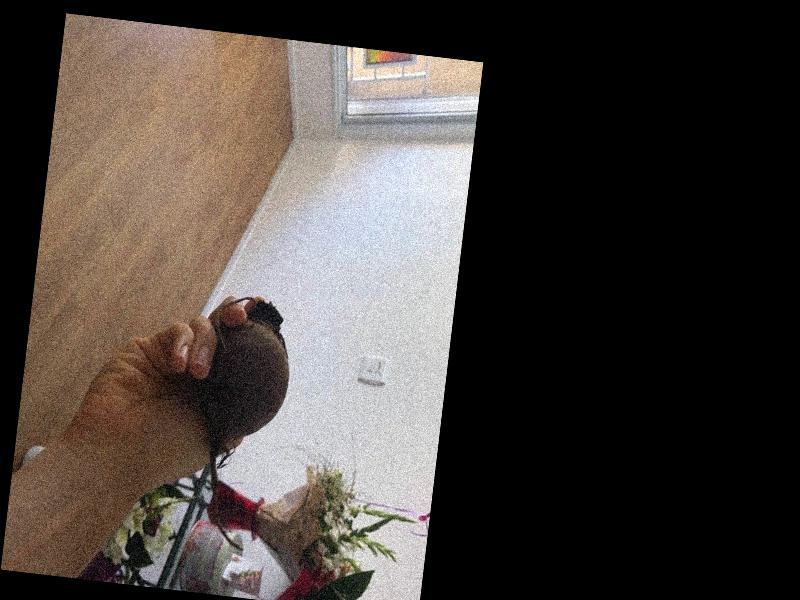Beet: (181, 292, 297, 553)
